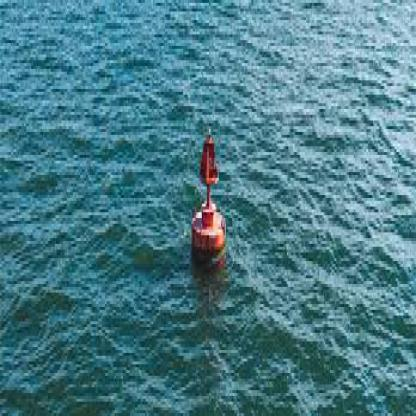buoy: (182, 115, 232, 275)
